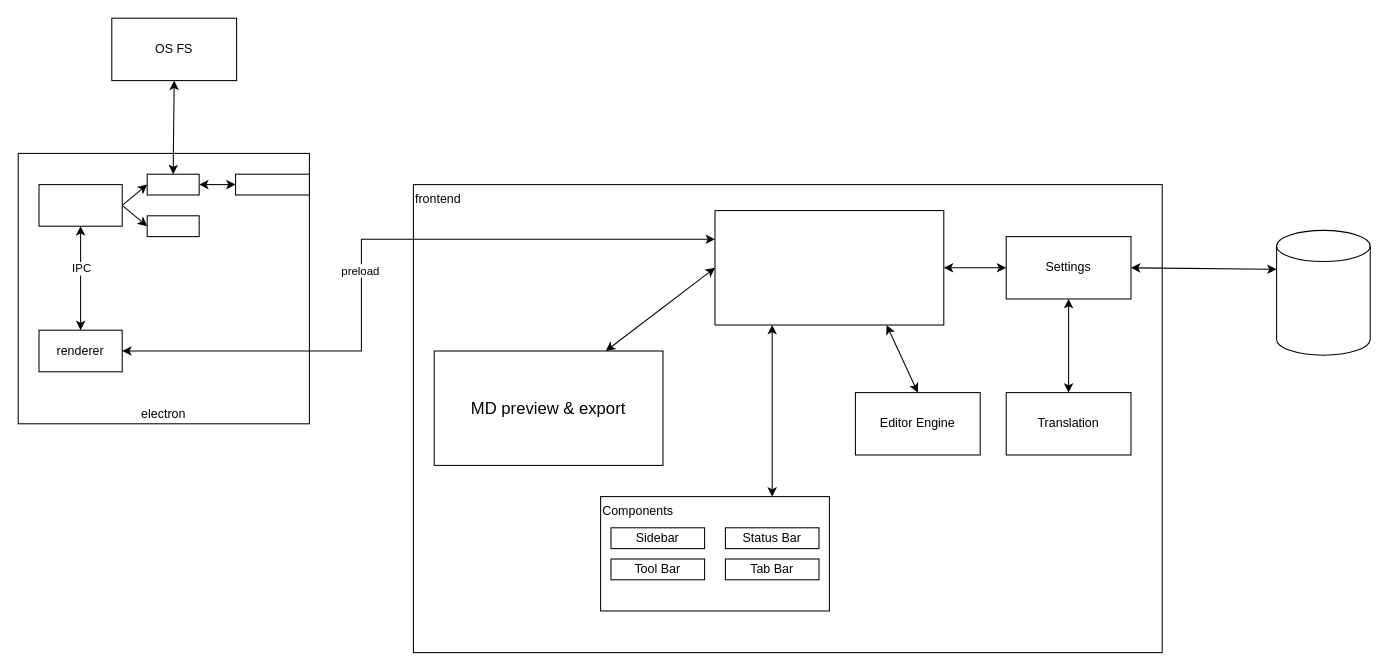
Image size: 1388x671. Some labels were removed from this diagram. The box of each missing label's shape, as (x1, y1, x2, y2) in pixels:
App state: (714, 210, 944, 325)
DOCX Converter: (235, 173, 309, 195)
file handler: (146, 173, 199, 195)
main: (38, 184, 122, 226)
Native UI: (146, 215, 199, 237)
Storage: (1276, 229, 1370, 355)
